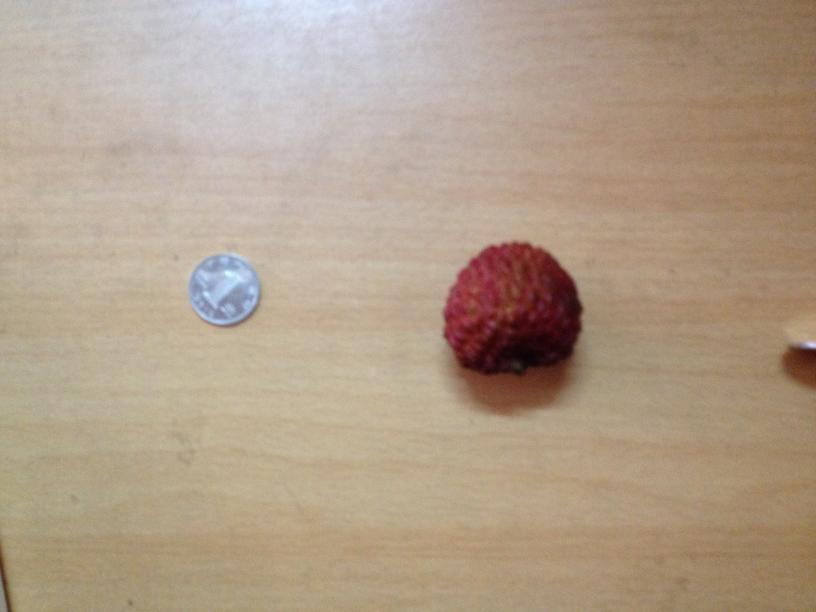coin: (185, 253, 261, 326)
litchi: (442, 239, 582, 376)
